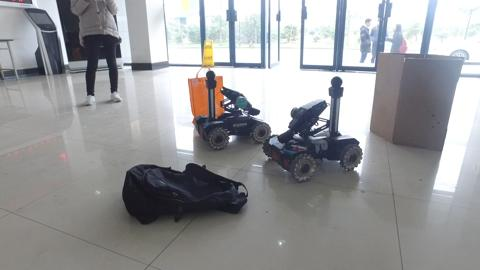bag: (125, 164, 250, 223)
box: (374, 50, 453, 155)
chariot: (264, 75, 362, 179), (195, 73, 271, 151)
